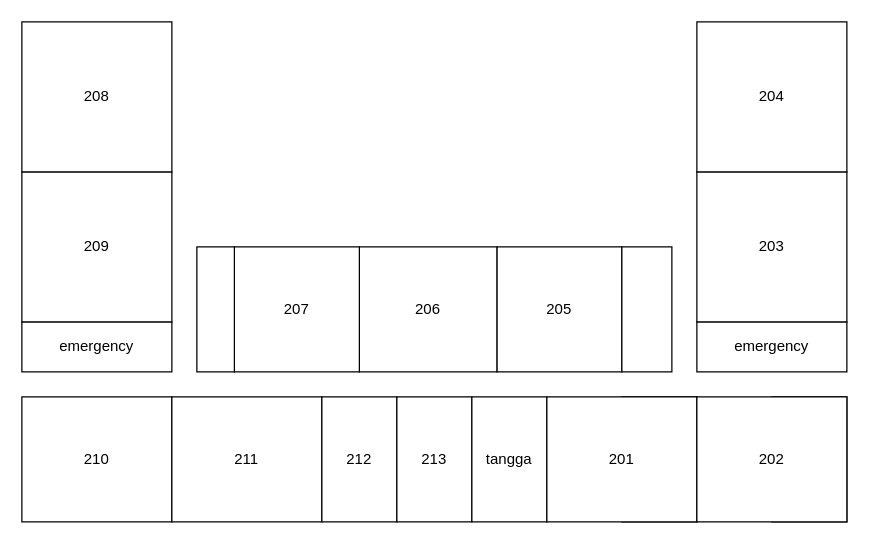
The diagram is 869 pixels wide and 544 high, and some of its shapes have lost their labels. The shapes that lost their labels are listed below. From the top down, each one's centre as x and y in pixels, then its label:
At point 215,309: "stora ge".
At point 646,309: "guda ng".
